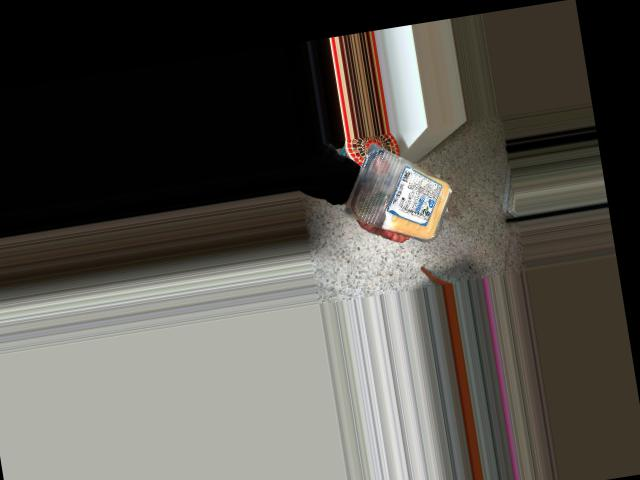cheese: (347, 141, 461, 244)
